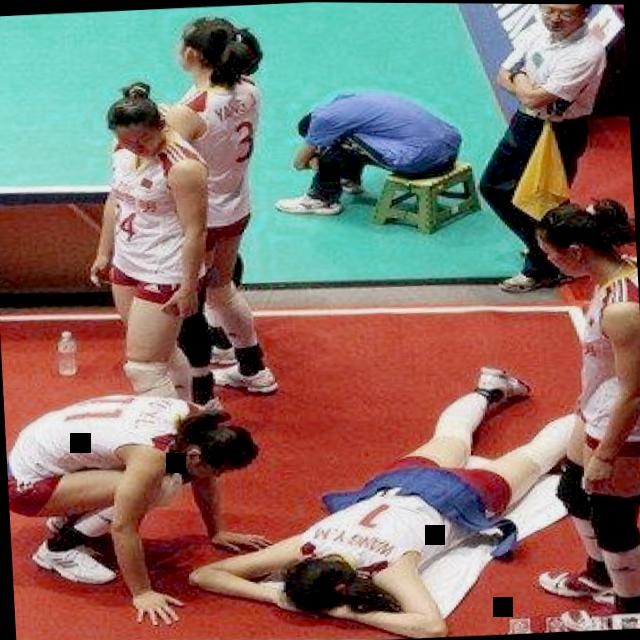Fall-Detected: (191, 334, 597, 640)
